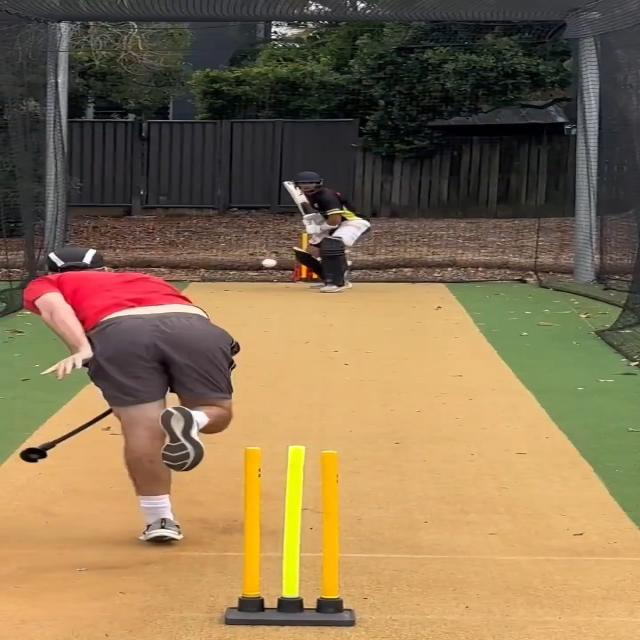ball: (260, 257, 277, 268)
stump: (228, 446, 357, 626)
